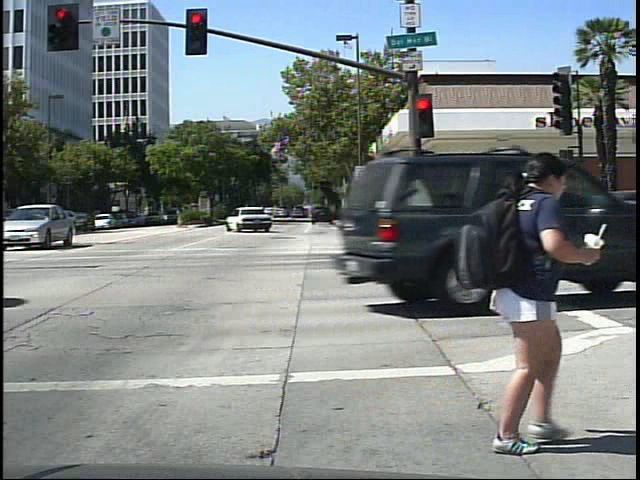person: (445, 129, 604, 458)
